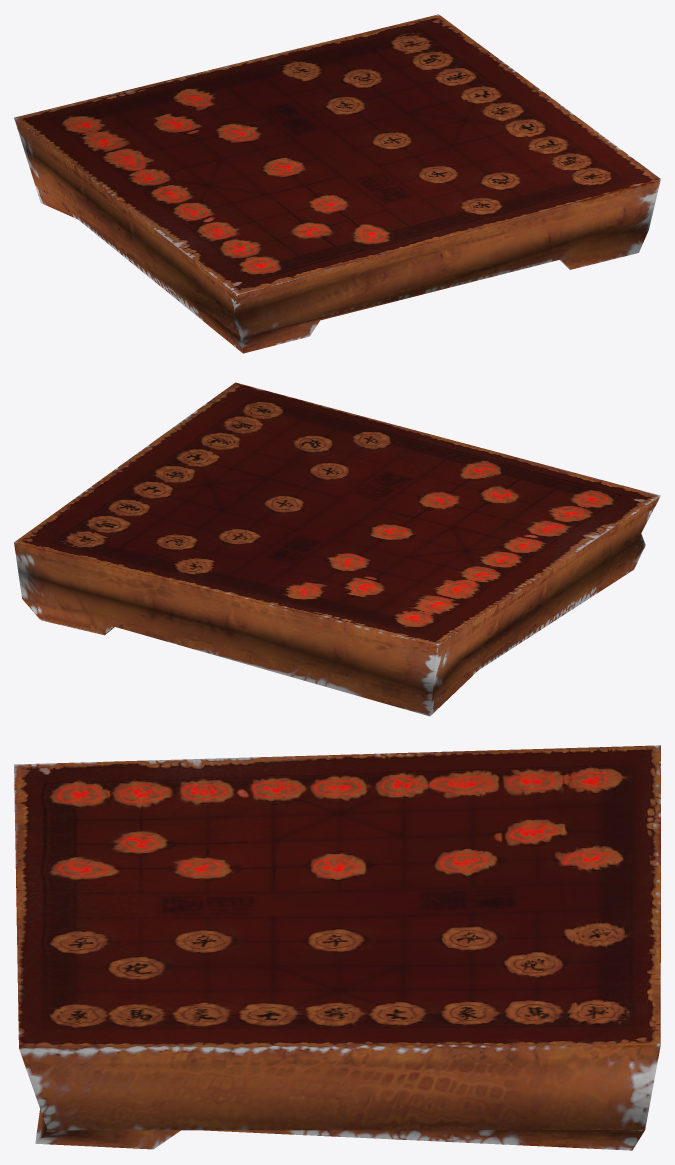
3 views of the same model, one above another, from view 1: azimuth 30°, elevation 25°; view 2: azimuth 150°, elevation 25°; view 3: azimuth 270°, elevation 25° (orthographic). The views are drawn at different scales.
Visible parts, largest first — view 1: pMesh1; view 2: pMesh1; view 3: pMesh1.
Boxes of the visible parts, x1,y1,x2,y2 form: pMesh1: (14, 14, 660, 353); pMesh1: (14, 382, 660, 716); pMesh1: (14, 745, 660, 1150).
Bounding box in the file's own units: 115 × 21.57 × 104.
1 material, 1 textured.
